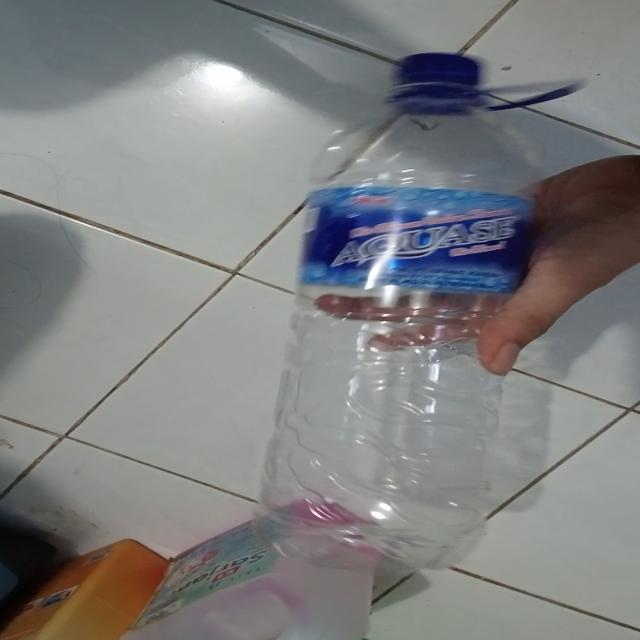Botol bekas: (263, 48, 557, 551)
